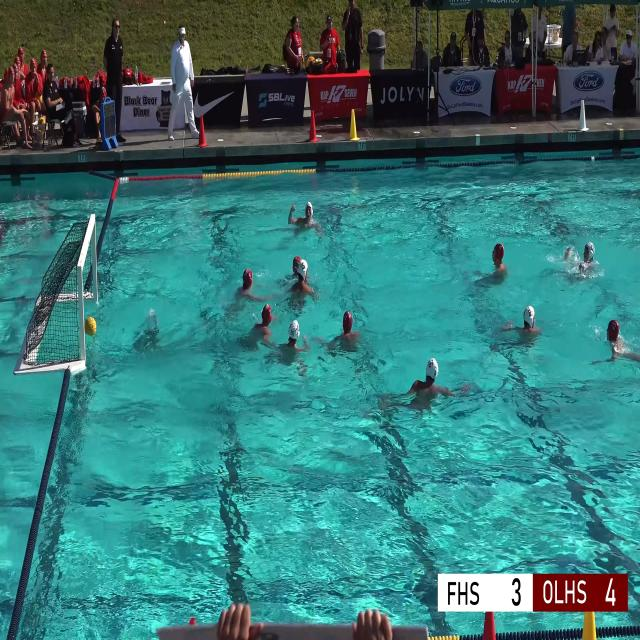ball: (85, 316, 96, 336)
